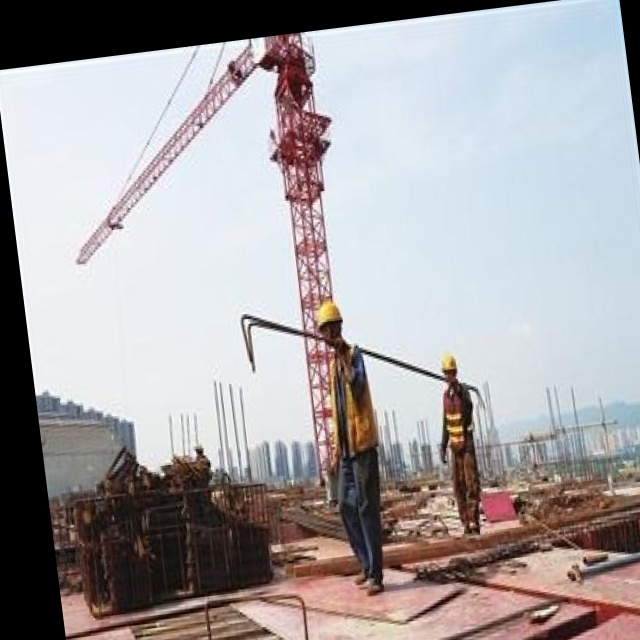Con_Chaleco: (441, 382, 476, 449)
